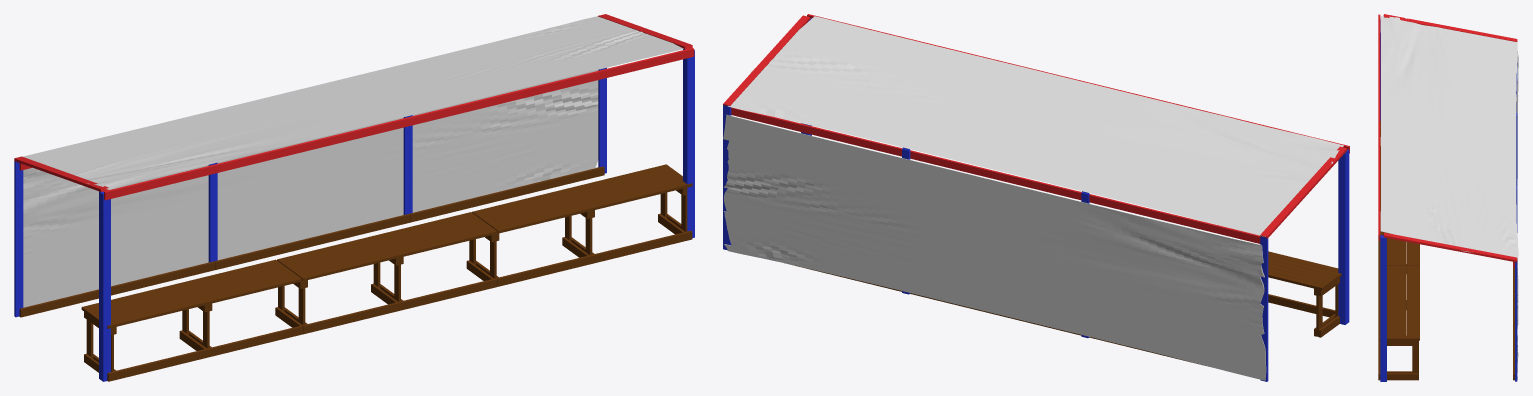
File: puestos fondas.fbx
3 views of the same model, side by side, from view 1: azimuth 30°, elevation 25°; view 2: azimuth 150°, elevation 25°; view 3: azimuth 270°, elevation 25° (orthographic). The views are drawn at different scales.
Parts seen in each view (by area): view 1: Plane, Plane.001, Cube.057, Cube.062, Cube.049, Cube.010, Cube.012, Cube.014, Cube.009, Cube.013, Cube.008, Cube.011 (+6 smaller); view 2: Plane, Plane.001, Cube.010, Cube.057, Cube.003, Cube.002, Cube.006, Cube.058, Cube.059, Cube, Cube.062, Cube.049 (+2 smaller); view 3: Plane.001, Cube.057, Cube.011, Cube.059, Cube.049, Cube.062, Cube.058, Plane, Cube.005, Cube.014, Cube.009, Cube.001.
Boxes of the visible parts, x1,y1,x2,y2 form: Plane: (23,70,598,307); Plane.001: (23,16,683,189); Cube.057: (81,164,692,328); Cube.062: (104,48,694,200); Cube.049: (84,187,687,372); Cube.010: (99,191,110,381); Cube.012: (107,325,302,381); Cube.014: (497,230,692,286); Cube.009: (409,166,604,222); Cube.013: (302,278,497,334); Cube.008: (214,214,409,269); Cube.011: (683,49,694,238); Plane: (723,114,1266,380); Plane.001: (728,16,1343,236); Cube.010: (1338,149,1349,324); Cube.057: (1268,251,1341,290); Cube.003: (910,150,1081,200); Cube.002: (1089,194,1260,243); Cube.006: (731,107,902,156); Cube.058: (1260,146,1347,238); Cube.059: (723,15,810,107); Cube: (1260,236,1268,381); Cube.062: (807,14,1349,153); Cube.049: (1314,277,1339,337); Plane.001: (1380,16,1518,258); Cube.057: (1379,121,1419,340); Cube.011: (1380,235,1386,381); Cube.059: (1383,232,1517,262); Cube.049: (1387,264,1418,380); Cube.062: (1378,14,1380,240); Cube.058: (1383,14,1517,41); Plane: (1516,50,1518,379); Cube.005: (1515,261,1517,381); Cube.014: (1378,301,1380,380); Cube.009: (1513,301,1514,380); Cube.001: (1516,113,1517,185).
Bounding box in the file's own units: 1190 × 367 × 318.
